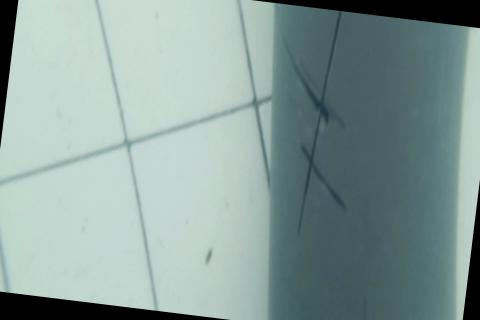keretakan: (262, 5, 372, 244)
